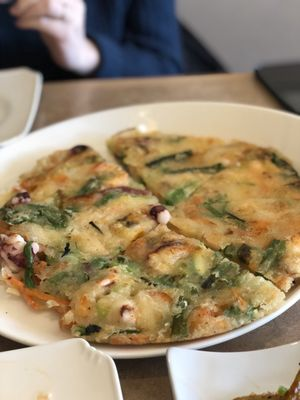pizza: (0, 65, 44, 145)
sushi: (0, 338, 125, 400), (166, 344, 300, 400), (0, 65, 44, 146)
